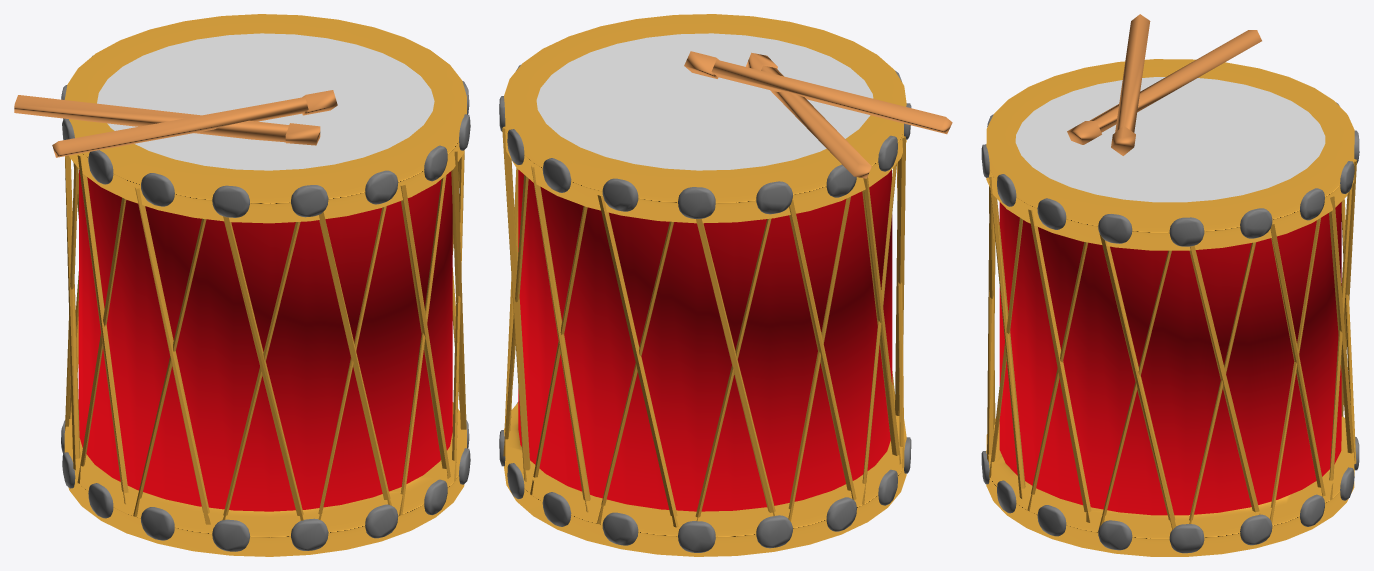
The model's file is Toydrum2.fbx.
3 renders of one model, left to right at view 1: azimuth 30°, elevation 25°; view 2: azimuth 150°, elevation 25°; view 3: azimuth 270°, elevation 25°, orthographic. The views are drawn at different scales.
Parts seen in each view (by area): view 1: Cylinder.001; view 2: Cylinder.001; view 3: Cylinder.001.
Boxes of the visible parts, box(x1,y1,x2,y2) form: Cylinder.001: box(14, 14, 470, 556); Cylinder.001: box(499, 14, 952, 556); Cylinder.001: box(981, 14, 1359, 556).
Size of the model in its own units: 250 by 235 by 220.
